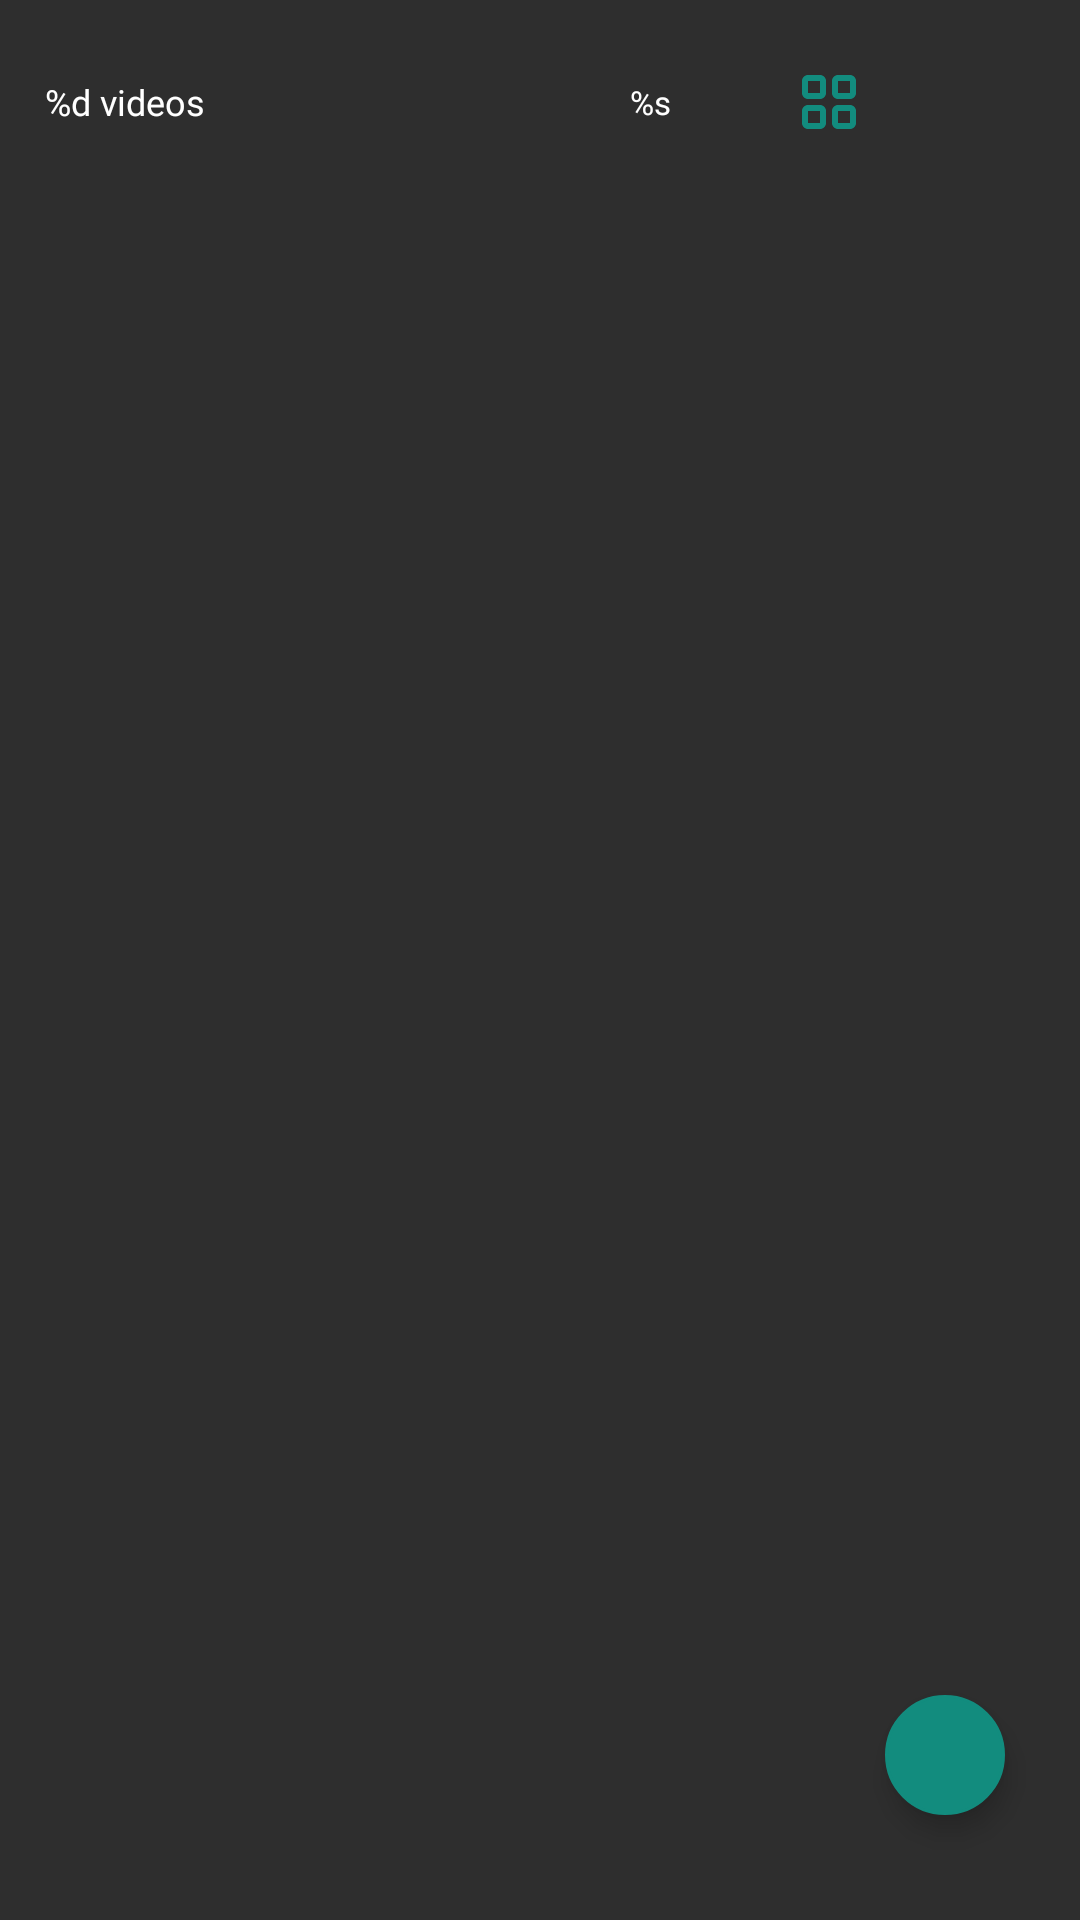

Named icons in this screenshot (1080 x 1920) and their bounding boxes, (x1, y1, x2, y2):
grid: (802, 75, 856, 129)
